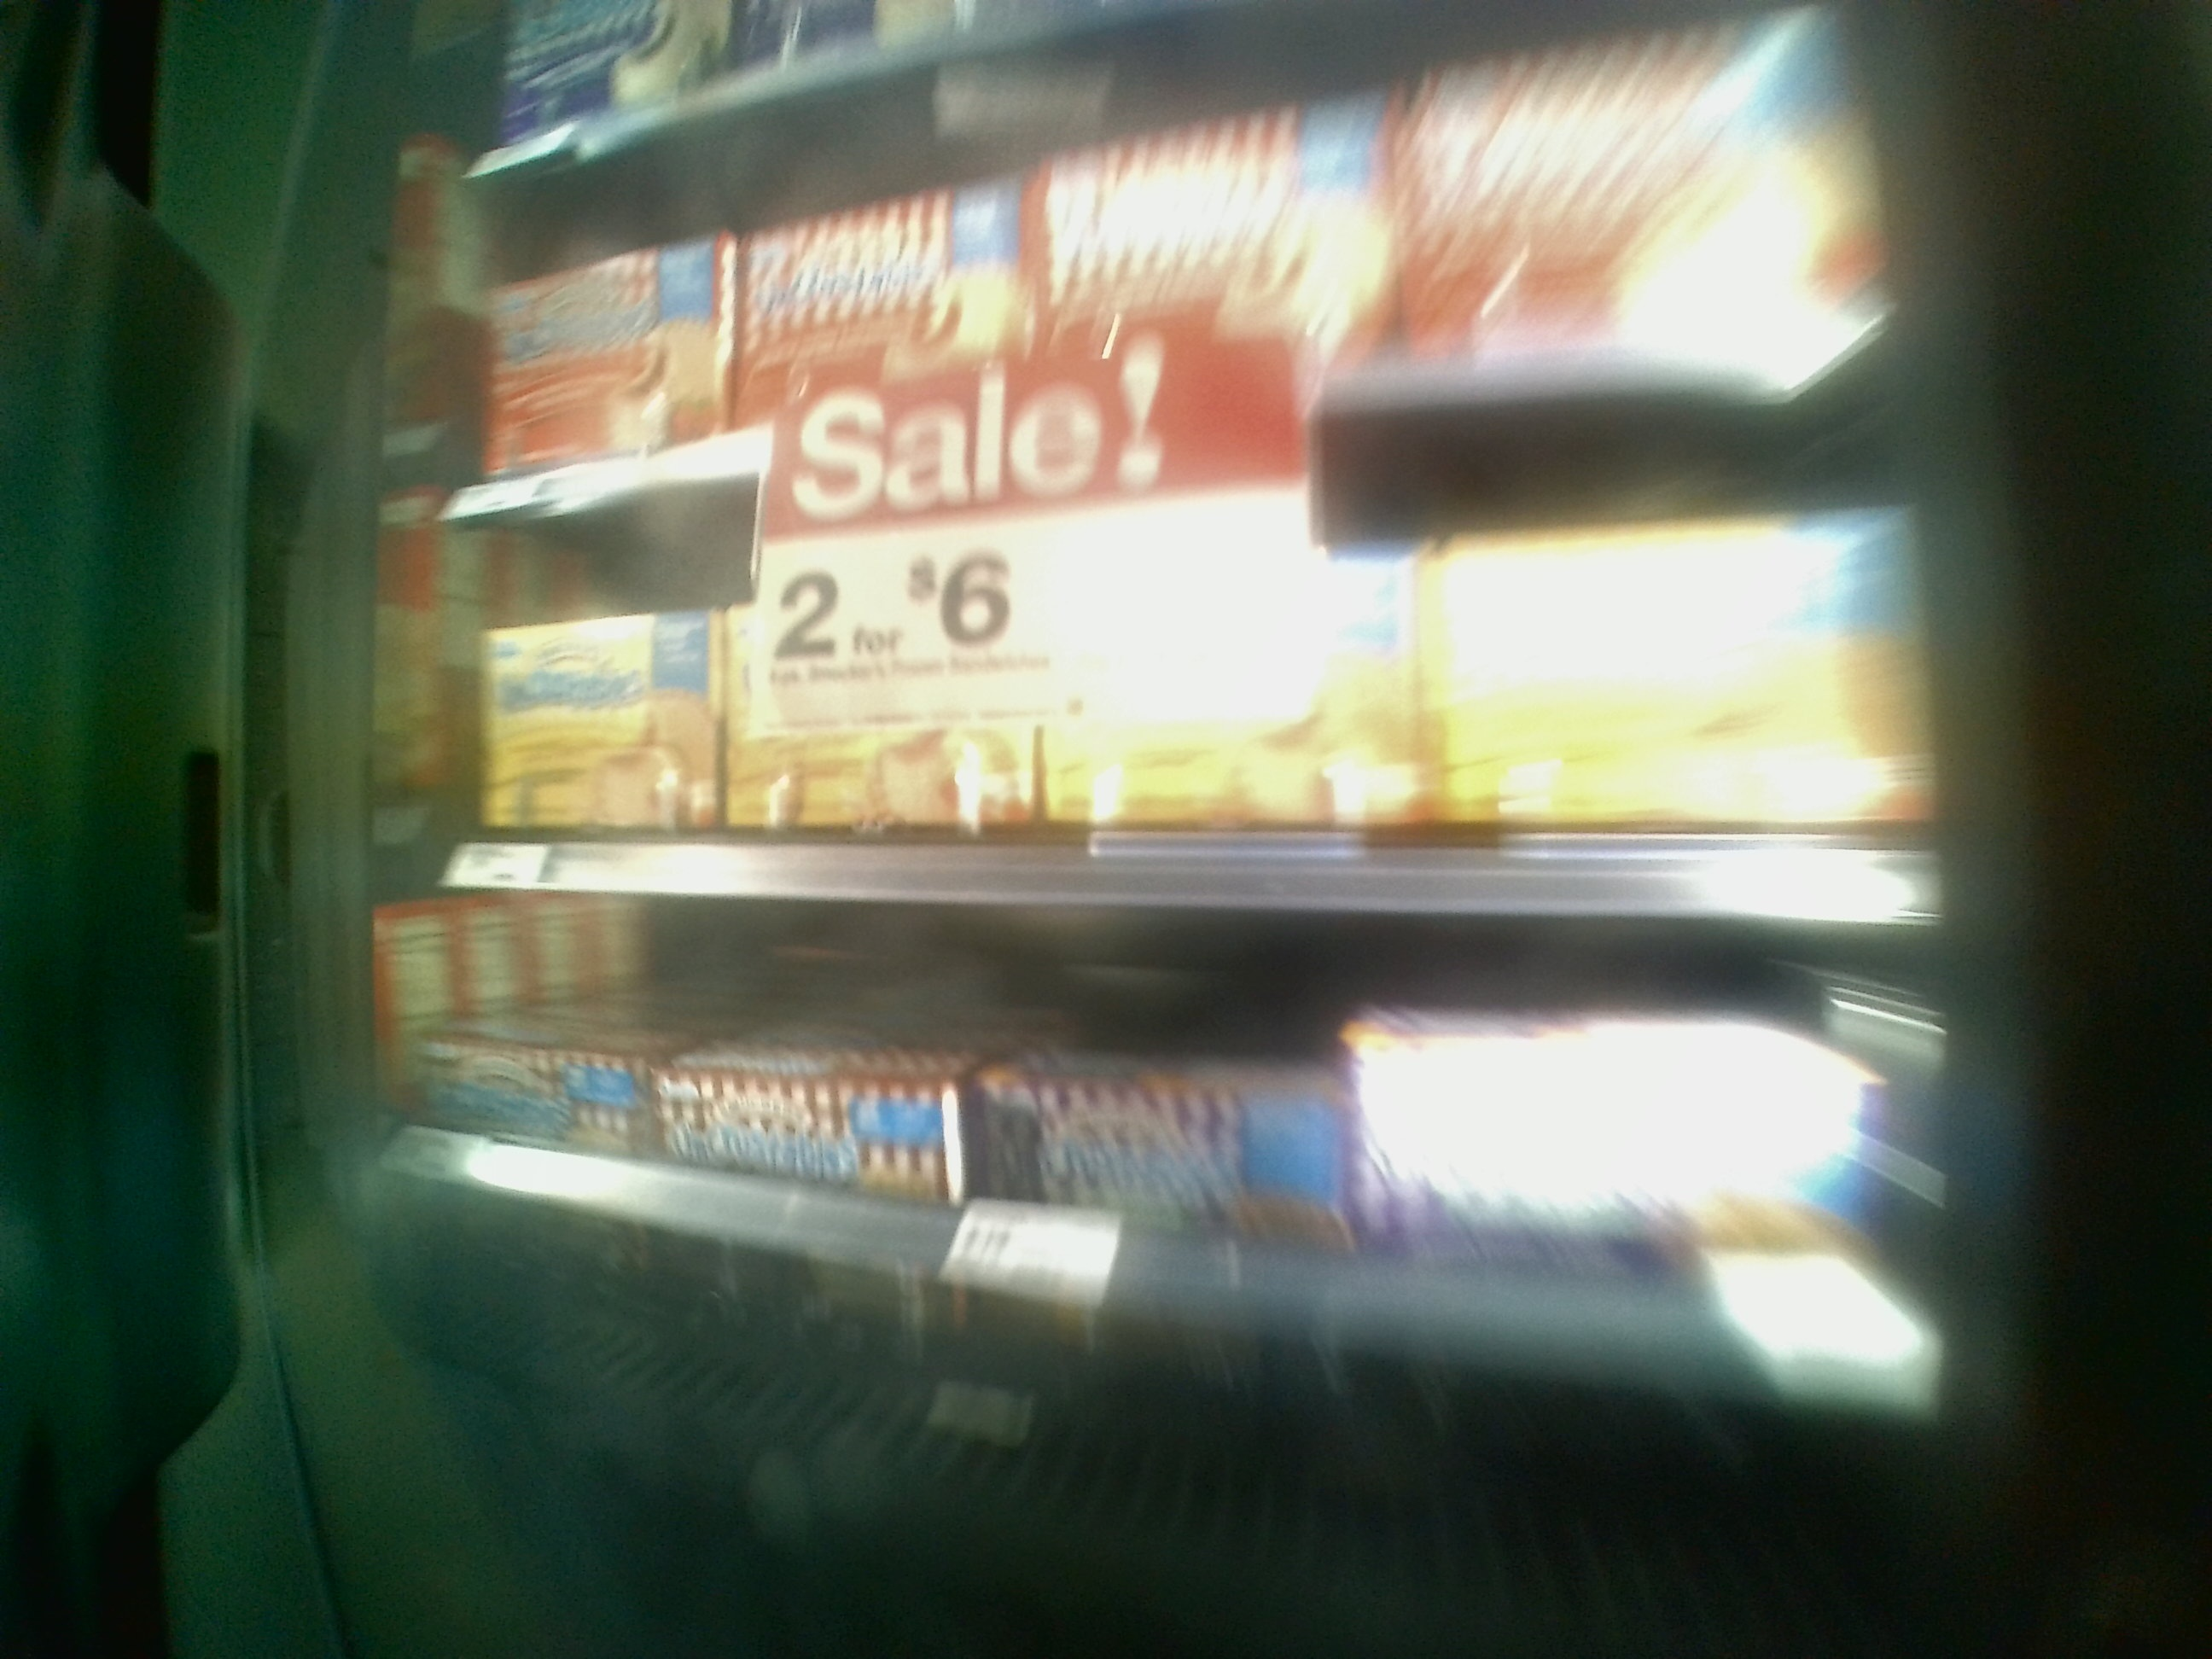shelf: (408, 845, 1949, 1481)
